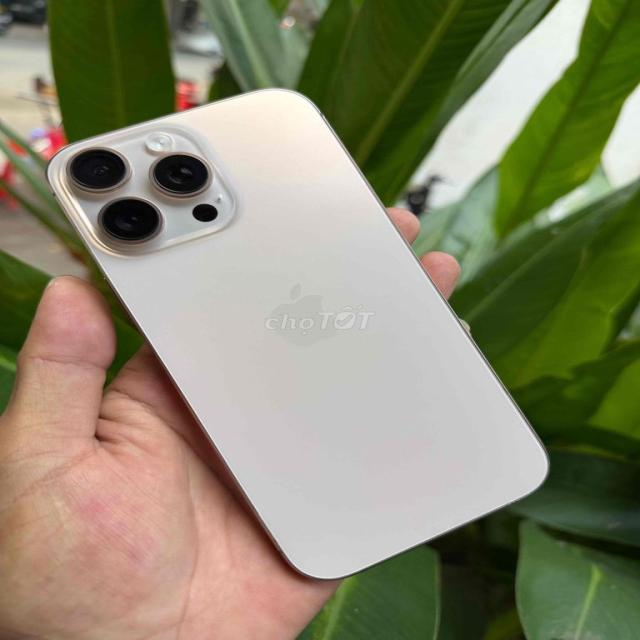gen_16: (48, 89, 548, 579)
